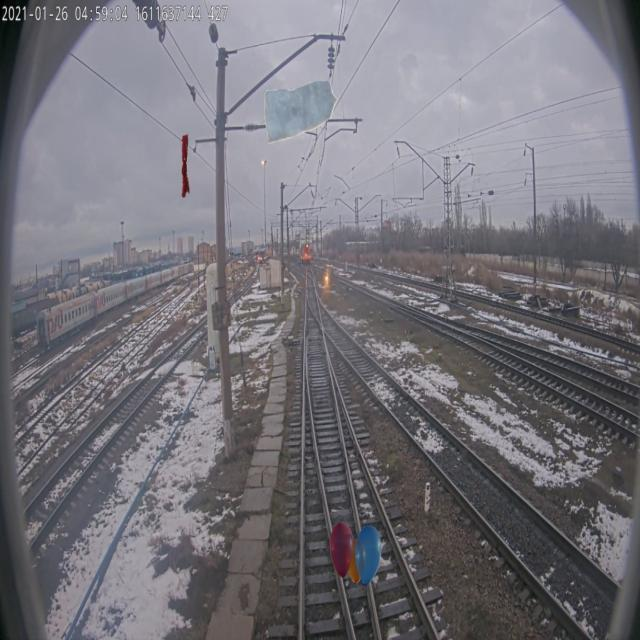balloon: (329, 522, 382, 586)
floating object: (258, 77, 338, 141), (181, 134, 190, 198)
